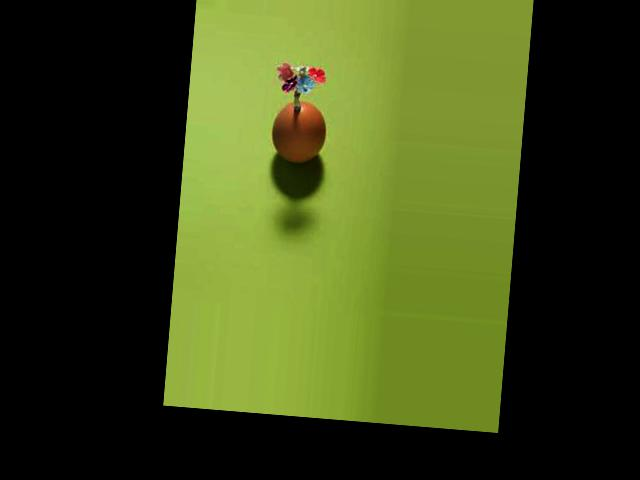egg: (269, 100, 327, 166)
